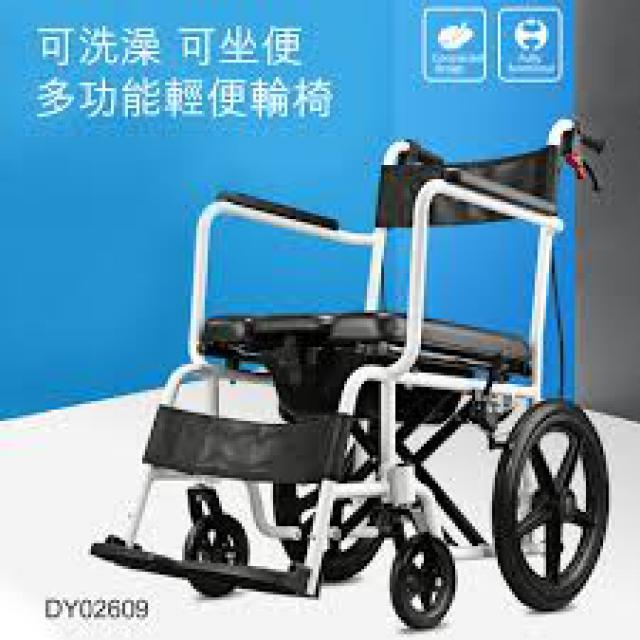wheelchair: (82, 111, 614, 637)
